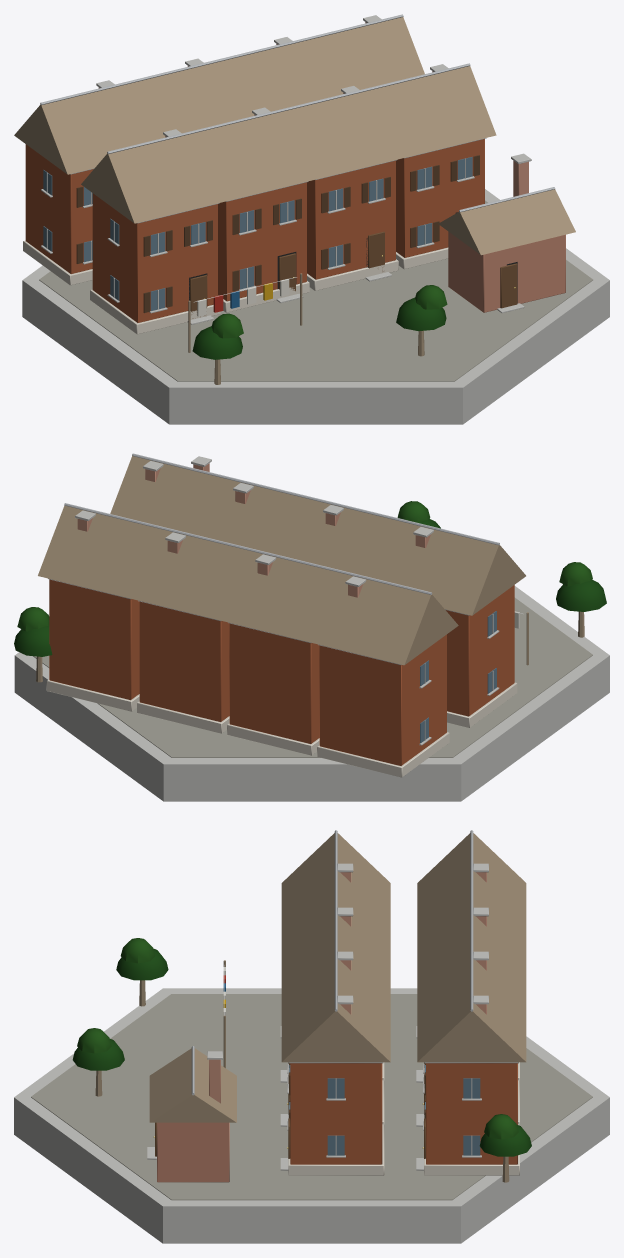
Rendered from workerHouse_africa.glb.
The picture shows the model from 3 angles, top to bottom: view 1: azimuth 30°, elevation 25°; view 2: azimuth 150°, elevation 25°; view 3: azimuth 270°, elevation 25°; orthographic projection.
Parts seen in each view (by area): view 1: wood, plaster, wall_concrete, pavers, brick, glass, stone, leaf, metal, paint; view 2: wood, plaster, wall_concrete, pavers, stone, leaf, metal, brick, glass; view 3: wood, pavers, wall_concrete, plaster, brick, leaf, stone, metal, glass.
Part boxes in pixels (bbox=[...]): wood: bbox=[14, 17, 575, 384]; plaster: bbox=[25, 139, 484, 322]; wall_concrete: bbox=[22, 15, 609, 424]; pavers: bbox=[39, 200, 592, 381]; brick: bbox=[98, 22, 565, 312]; glass: bbox=[43, 157, 472, 310]; stone: bbox=[23, 240, 448, 334]; leaf: bbox=[192, 285, 447, 359]; metal: bbox=[40, 14, 555, 212]; paint: bbox=[193, 277, 296, 316]; wood: bbox=[36, 456, 584, 682]; plaster: bbox=[49, 579, 514, 765]; wall_concrete: bbox=[14, 456, 609, 801]; pavers: bbox=[33, 597, 592, 757]; stone: bbox=[46, 679, 517, 777]; leaf: bbox=[14, 501, 606, 656]; metal: bbox=[64, 453, 499, 594]; brick: bbox=[77, 463, 430, 597]; glass: bbox=[420, 611, 496, 743]; wood: bbox=[95, 833, 526, 1182]; pavers: bbox=[31, 994, 592, 1200]; wall_concrete: bbox=[14, 863, 609, 1243]; plaster: bbox=[290, 1063, 517, 1164]; brick: bbox=[157, 872, 486, 1182]; leaf: bbox=[72, 938, 531, 1156]; stone: bbox=[288, 1062, 519, 1175]; metal: bbox=[191, 830, 473, 1095]; glass: bbox=[289, 1065, 480, 1155].
Bounding box in the file's own units: 21.3 × 9.44 × 24.6.
